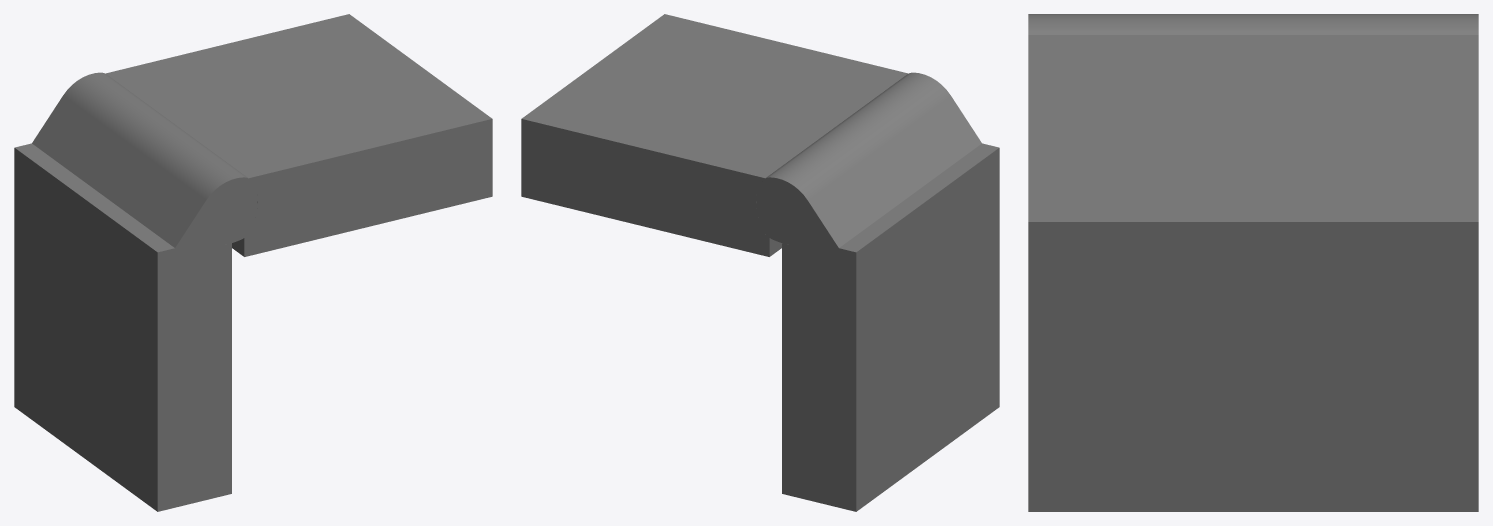
The picture shows the model from 3 angles, left to right: view 1: azimuth 30°, elevation 25°; view 2: azimuth 150°, elevation 25°; view 3: azimuth 270°, elevation 25°; orthographic projection. The views are drawn at different scales.
Visible parts, largest first — view 1: mesh_id4, mesh_id5; view 2: mesh_id4, mesh_id5; view 3: mesh_id4, mesh_id5.
Boxes of the visible parts, x1,y1,x2,y2 form: mesh_id4: [14, 14, 492, 511]; mesh_id5: [32, 72, 257, 248]; mesh_id4: [521, 14, 999, 511]; mesh_id5: [756, 72, 981, 248]; mesh_id4: [1028, 35, 1478, 511]; mesh_id5: [1028, 14, 1478, 34].
Bounding box in the file's own units: 0.512 × 0.4594 × 0.3793.
2 materials, 2 textured.
